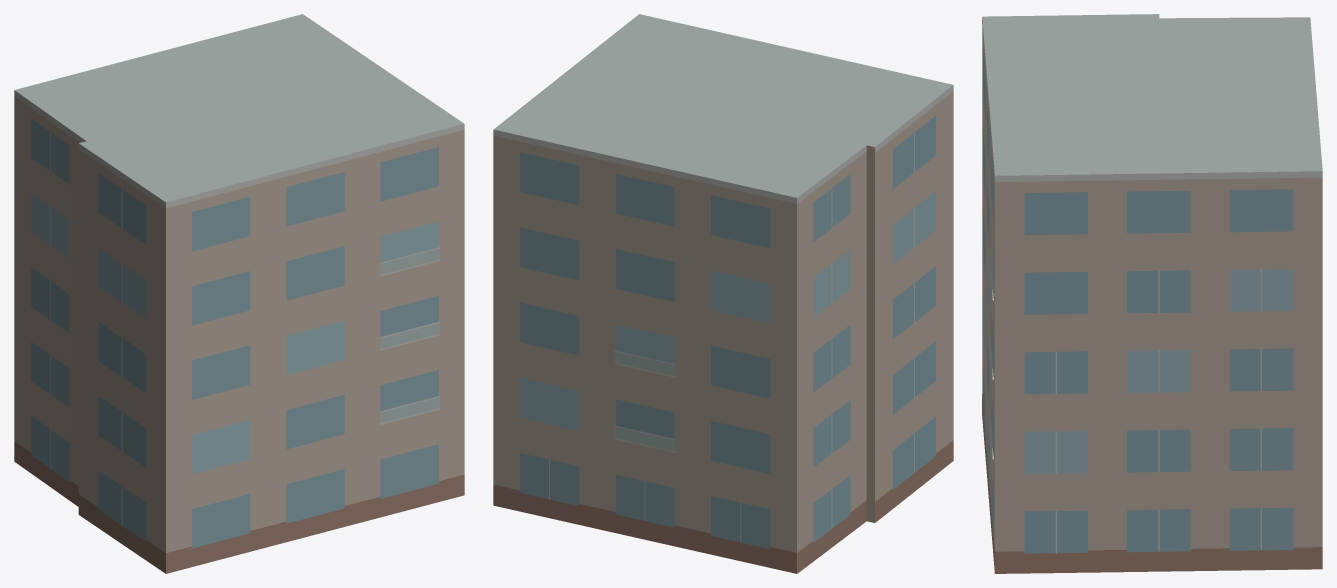
Rendered from survey-upis-32491921.glb.
3 renders of one model, left to right at view 1: azimuth 30°, elevation 25°; view 2: azimuth 150°, elevation 25°; view 3: azimuth 270°, elevation 25°, orthographic. The views are drawn at different scales.
Parts seen in each view (by area): view 1: survey-upis-32491921.tmp; view 2: survey-upis-32491921.tmp; view 3: survey-upis-32491921.tmp.
Boxes of the visible parts, <box> form: survey-upis-32491921.tmp: <box>14,14,464,573</box>; survey-upis-32491921.tmp: <box>493,14,953,573</box>; survey-upis-32491921.tmp: <box>982,14,1322,573</box>.
Size of the model in its own units: 13.3 by 15.25 by 11.83.
